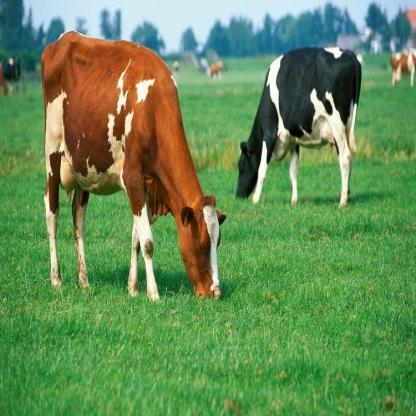cow: (41, 31, 225, 300), (236, 49, 362, 204)
